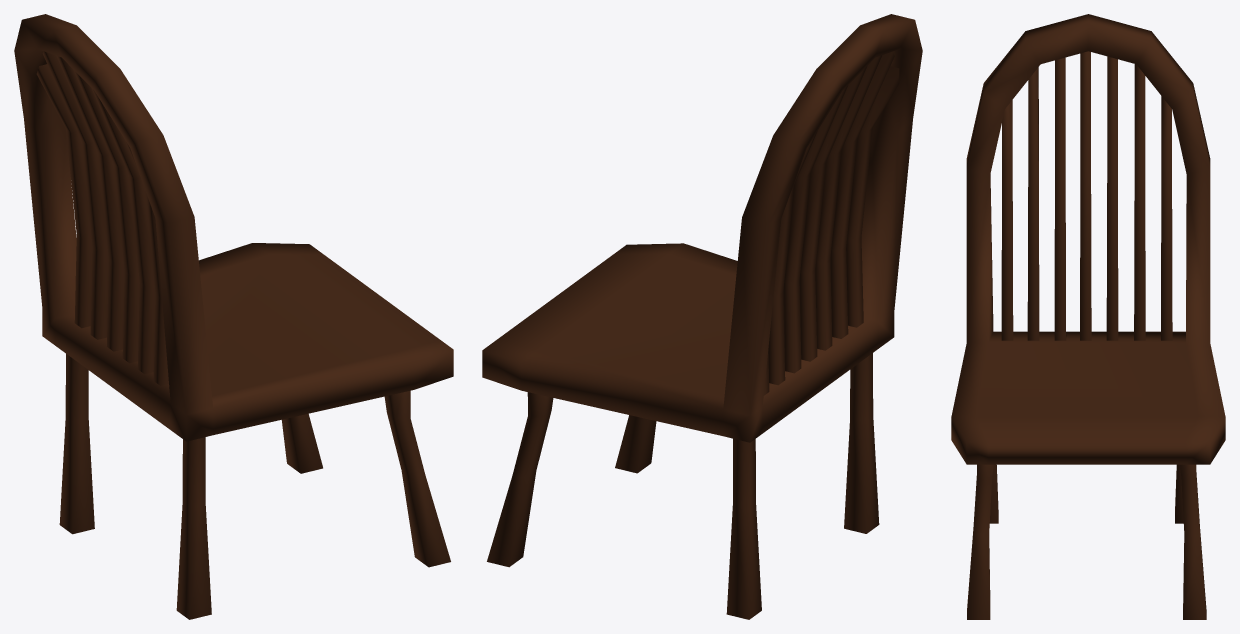
File: SM_Chair_01.fbx
3 renders of one model, left to right at view 1: azimuth 30°, elevation 25°; view 2: azimuth 150°, elevation 25°; view 3: azimuth 270°, elevation 25°, orthographic. The views are drawn at different scales.
Visible parts, largest first — view 1: chair; view 2: chair; view 3: chair.
Part boxes in pixels (box(x1,y1,x2,y2)): chair: box(14, 14, 453, 619); chair: box(482, 14, 922, 619); chair: box(951, 14, 1225, 619).
Size of the model in its own units: 85.47 by 73.12 by 139.
